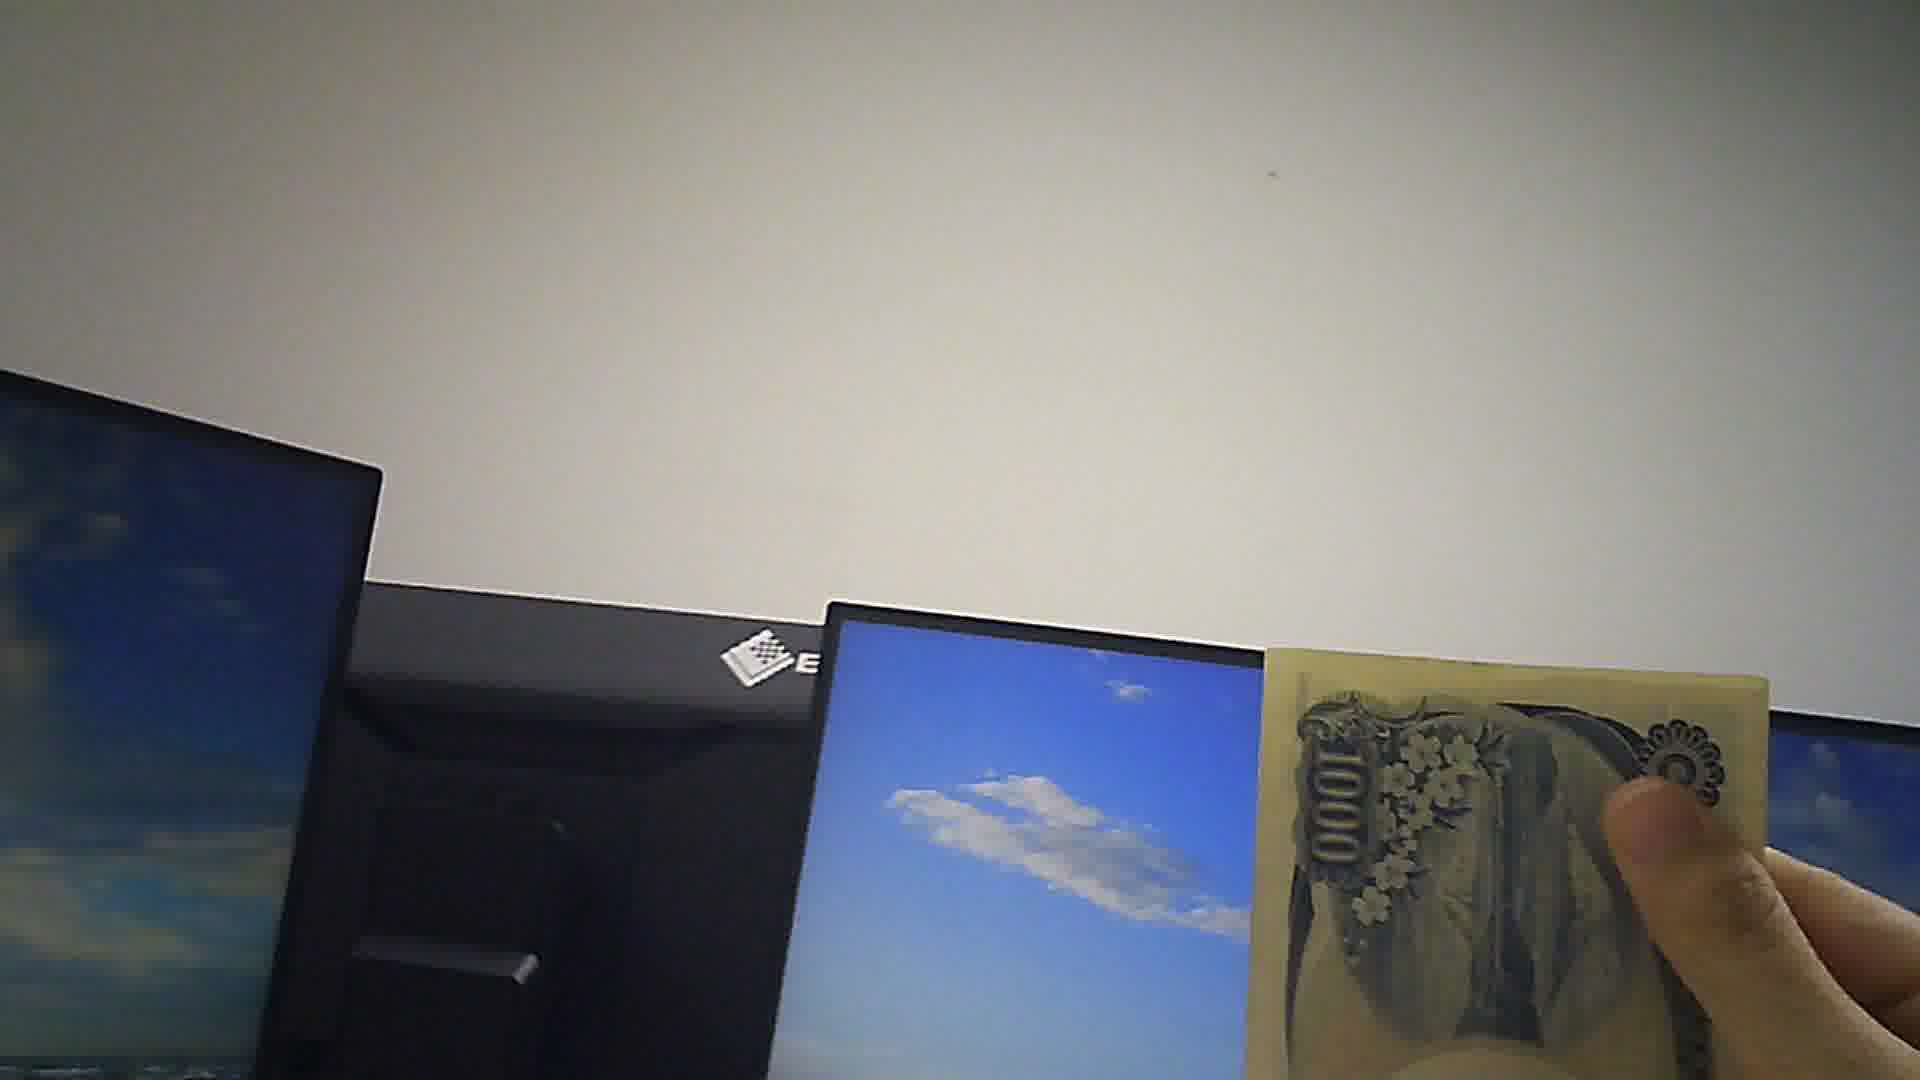1,000 Yen: (1251, 637, 1735, 1079)
